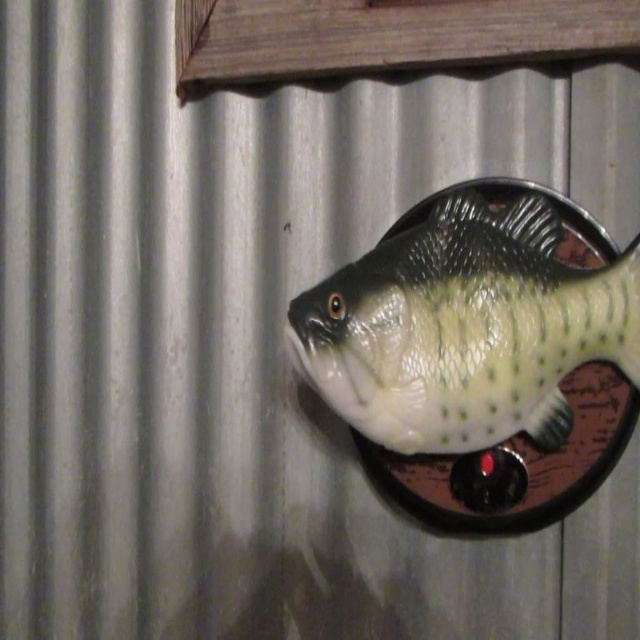Fish: (288, 188, 628, 496)
